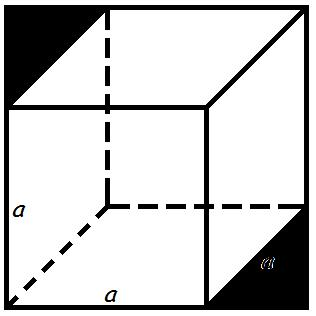cubos: (3, 2, 316, 311)
